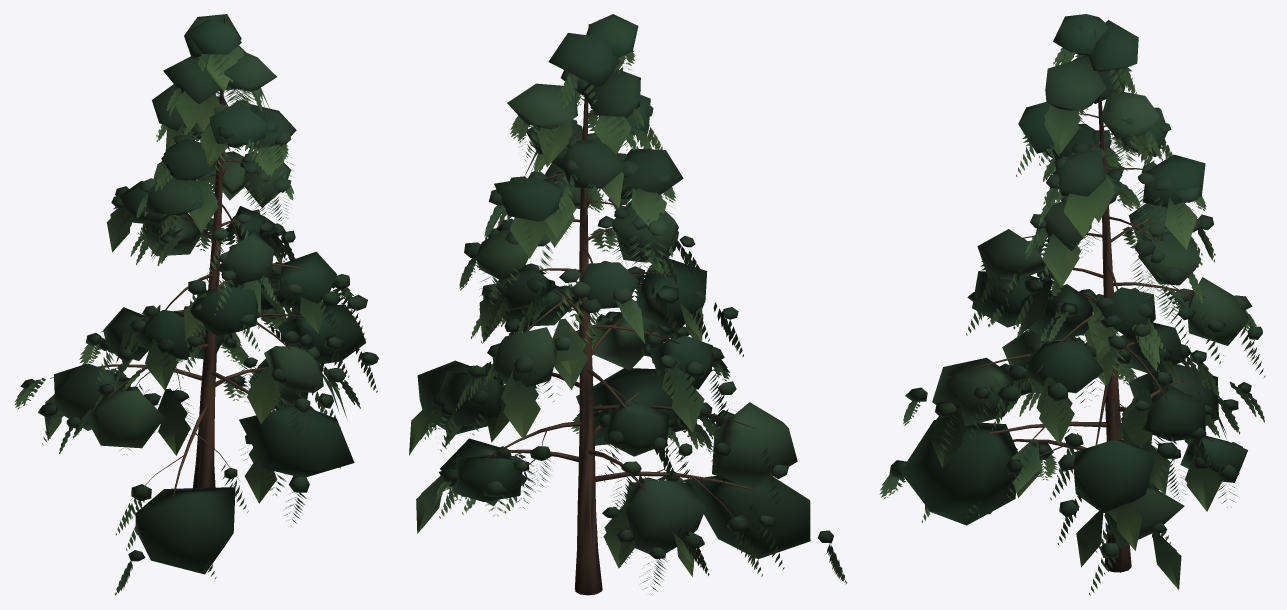
The model's file is hemlock.glb.
The picture shows the model from 3 angles, left to right: view 1: azimuth 30°, elevation 25°; view 2: azimuth 150°, elevation 25°; view 3: azimuth 270°, elevation 25°; orthographic projection. The views are drawn at different scales.
Visible parts, largest first — view 1: hemlock-lo, hemlock; view 2: hemlock-lo, hemlock; view 3: hemlock-lo, hemlock.
Boxes of the visible parts, box(x1,y1,x2,y2) form: hemlock-lo: box(44, 14, 365, 574); hemlock: box(15, 18, 378, 595); hemlock-lo: box(409, 14, 810, 594); hemlock: box(424, 19, 847, 595); hemlock-lo: box(900, 14, 1248, 589); hemlock: box(879, 26, 1265, 595).
Bounding box in the file's own units: 13.64 × 20.45 × 13.1.
